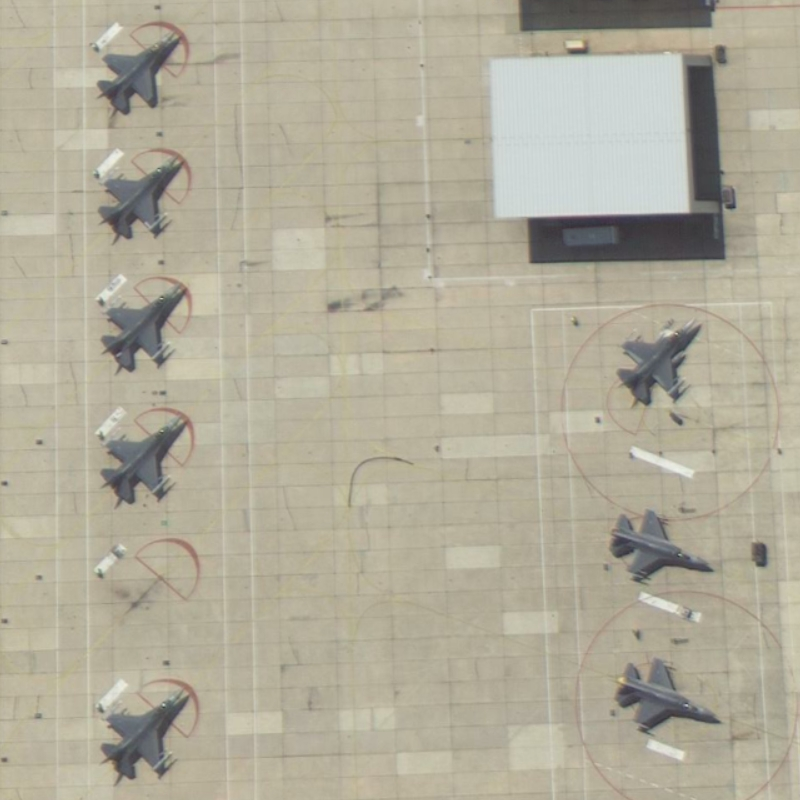A5: (97, 679, 194, 784), (611, 315, 706, 408), (610, 653, 720, 733), (94, 279, 185, 375), (95, 413, 186, 507), (91, 28, 183, 118), (95, 149, 181, 244), (602, 505, 713, 578)
